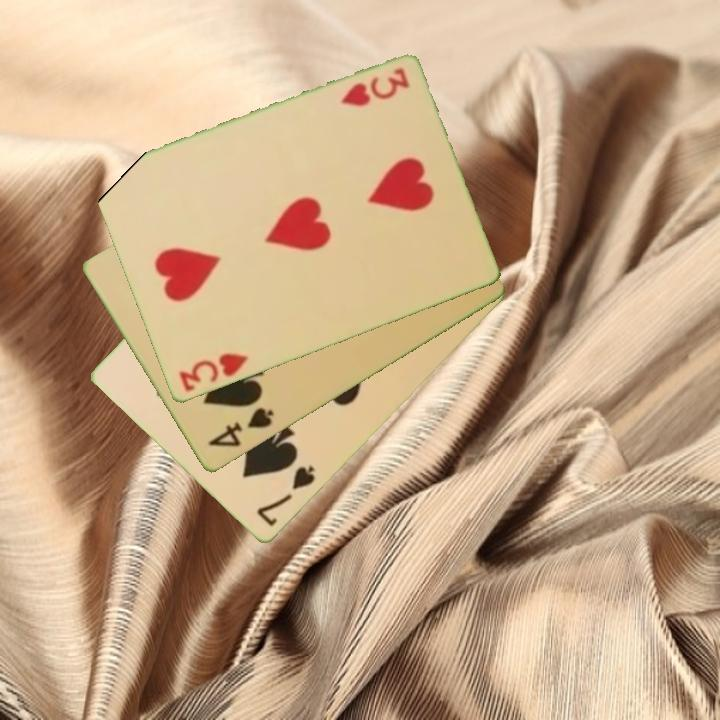3h: (336, 64, 412, 111), (175, 349, 251, 395)
4s: (204, 404, 277, 451)
7s: (253, 463, 318, 530)
